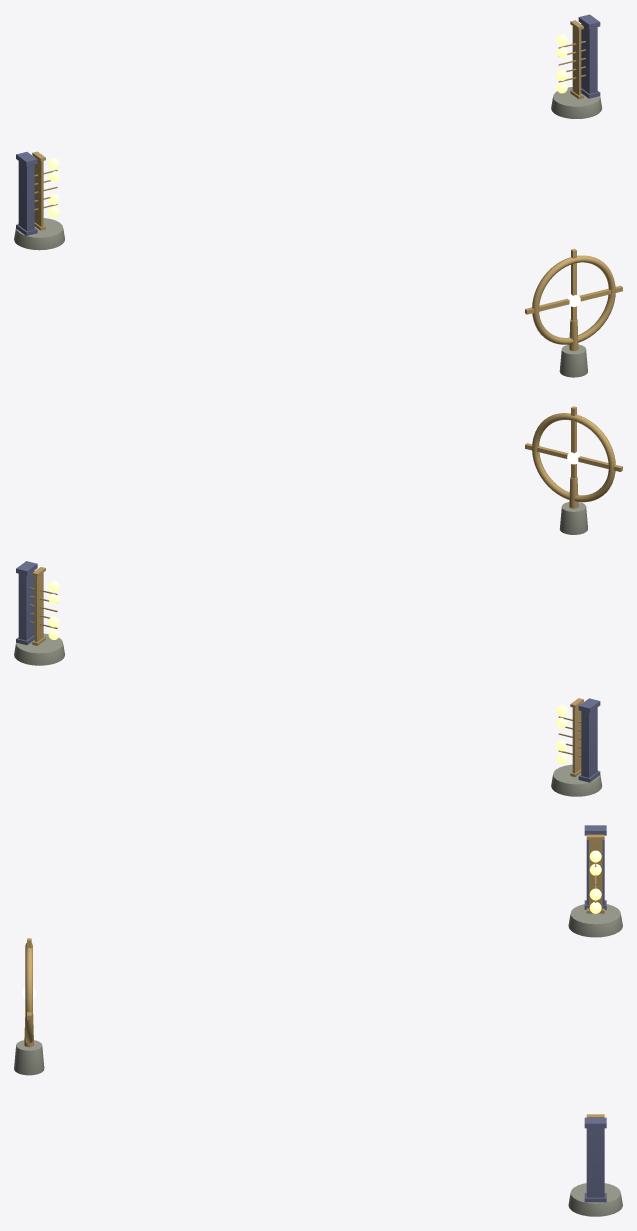
Rendered from landmark-r8-repeat-gate.glb.
3 views of the same model, one above another, from view 1: azimuth 30°, elevation 25°; view 2: azimuth 150°, elevation 25°; view 3: azimuth 270°, elevation 25° (orthographic). The views are drawn at different scales.
Parts seen in each view (by area): view 1: Static_Aged_brass, Static_Limestone_shadow, Static_Midnight_stone; view 2: Static_Aged_brass, Static_Limestone_shadow, Static_Midnight_stone; view 3: Static_Limestone_shadow, Static_Midnight_stone, Static_Aged_brass.
Boxes of the visible parts, bbox=[...] form: Static_Aged_brass: bbox=[32, 20, 622, 351]; Static_Limestone_shadow: bbox=[14, 87, 602, 377]; Static_Midnight_stone: bbox=[16, 14, 600, 235]; Static_Aged_brass: bbox=[30, 406, 622, 777]; Static_Limestone_shadow: bbox=[14, 502, 602, 796]; Static_Midnight_stone: bbox=[16, 561, 600, 782]; Static_Limestone_shadow: bbox=[14, 904, 622, 1216]; Static_Midnight_stone: bbox=[584, 825, 606, 1202]; Static_Aged_brass: bbox=[24, 834, 604, 1117].
Bounding box in the file's own units: 136 × 27.25 × 116.
